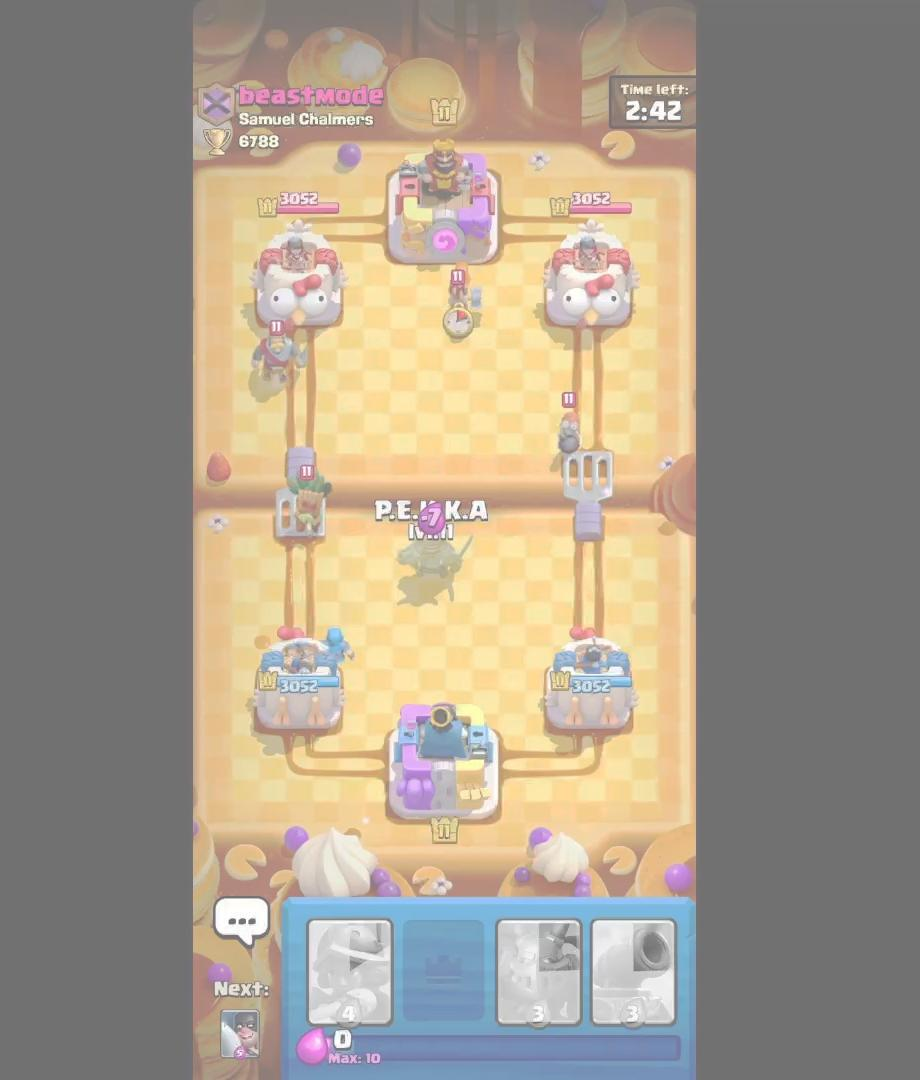Bomber: (550, 388, 588, 462)
Dart Goblin: (286, 461, 333, 537)
Knight: (251, 318, 311, 388)
Valkyrie: (441, 261, 486, 331)
